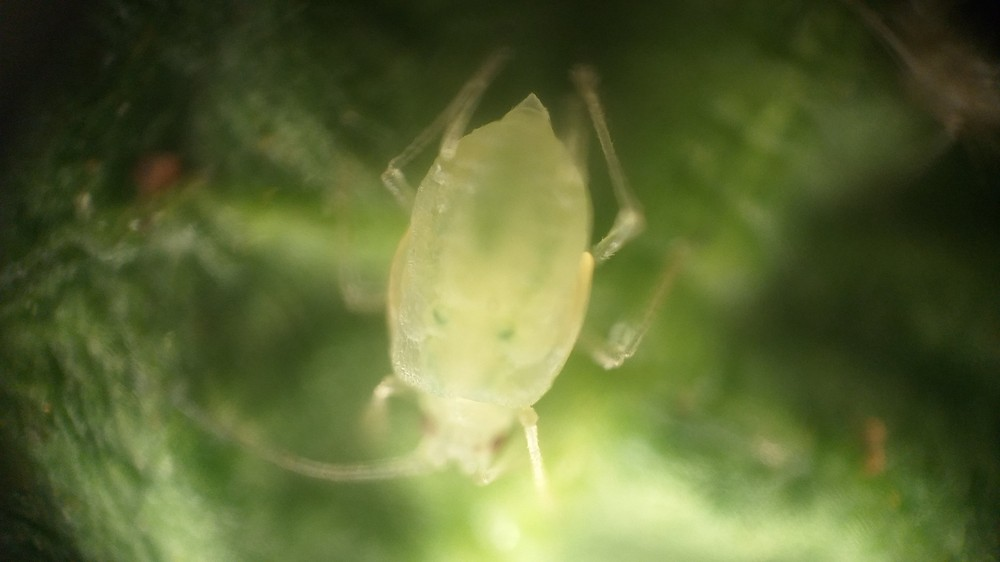Pulgon: (224, 38, 734, 556)
